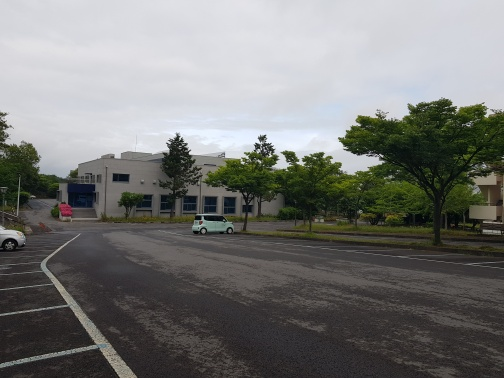College of Social Sciences: (60, 147, 290, 224)
